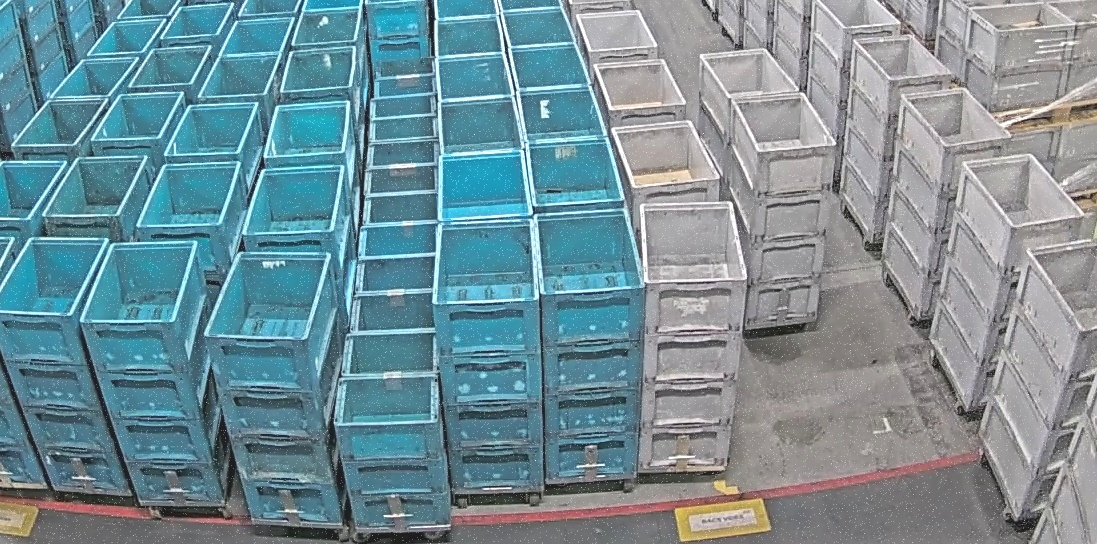4G: (639, 199, 749, 472), (728, 92, 836, 332)
B4: (78, 239, 233, 507), (206, 246, 346, 526), (0, 236, 131, 493), (532, 208, 643, 482), (432, 217, 543, 490)
B8: (334, 326, 453, 527)
